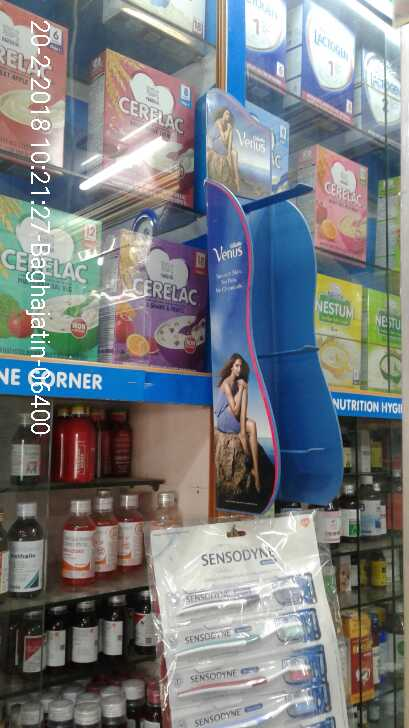reject: (120, 187, 203, 250)
